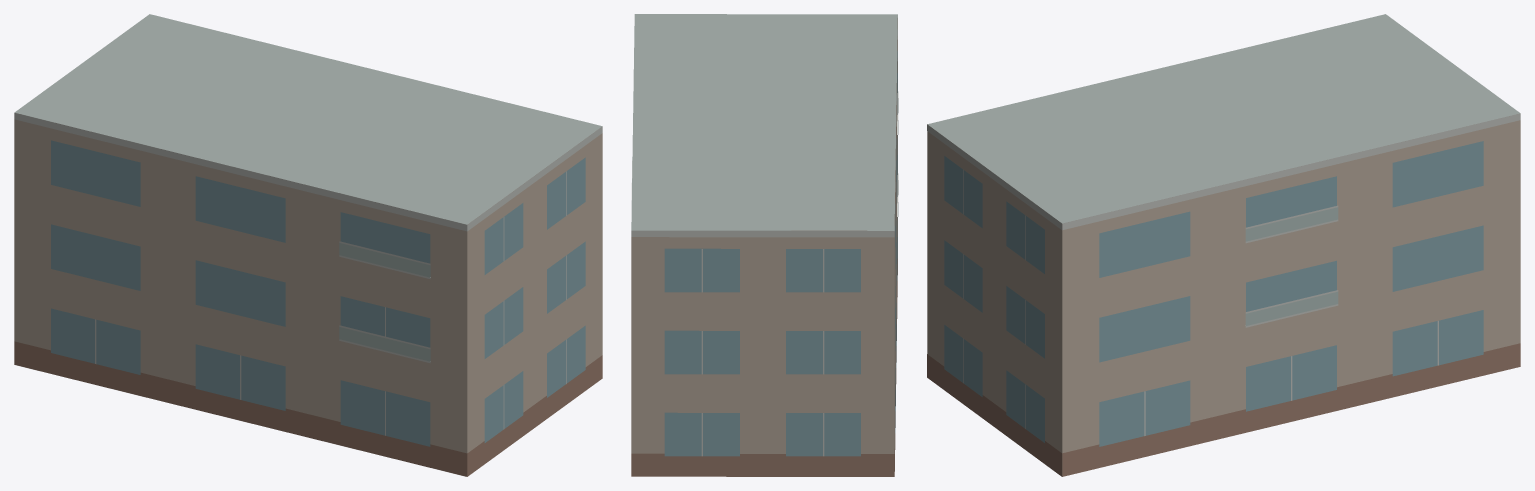
The model's file is survey-upis-32706640.glb.
3 renders of one model, left to right at view 1: azimuth 30°, elevation 25°; view 2: azimuth 150°, elevation 25°; view 3: azimuth 270°, elevation 25°, orthographic. The views are drawn at different scales.
Parts seen in each view (by area): view 1: survey-upis-32706640.tmp; view 2: survey-upis-32706640.tmp; view 3: survey-upis-32706640.tmp.
Boxes of the visible parts, x1,y1,x2,y2 form: survey-upis-32706640.tmp: (14,14,602,476); survey-upis-32706640.tmp: (631,14,898,476); survey-upis-32706640.tmp: (927,14,1520,476).
Bounding box in the file's own units: 16.24 × 9.15 × 19.44.
